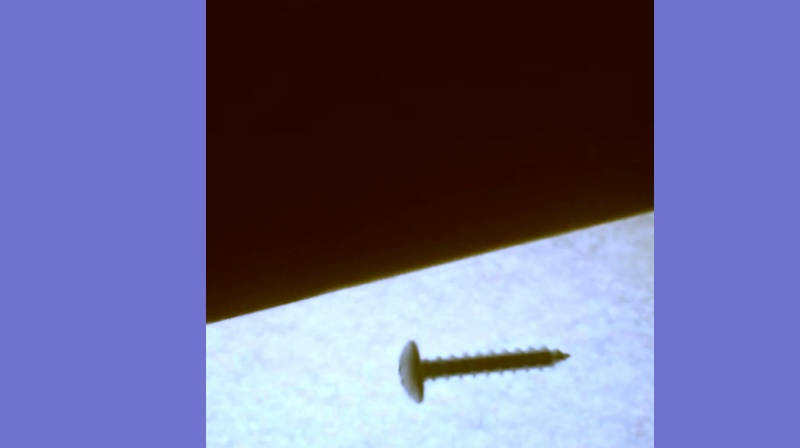S003: (395, 335, 575, 406)
